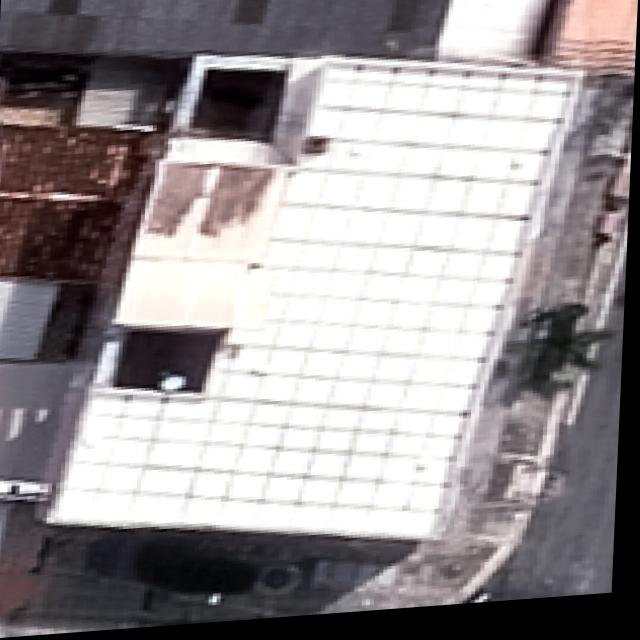Batiment: (61, 63, 573, 541), (0, 126, 163, 286), (542, 0, 638, 84)
